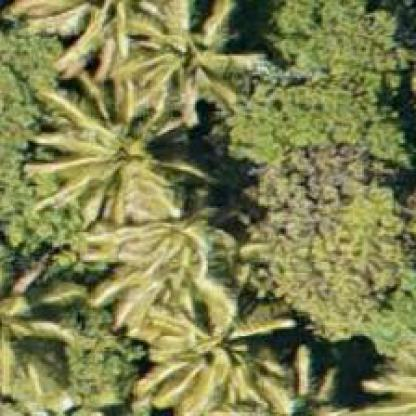coconut tree: (0, 1, 362, 415), (0, 250, 101, 400)
